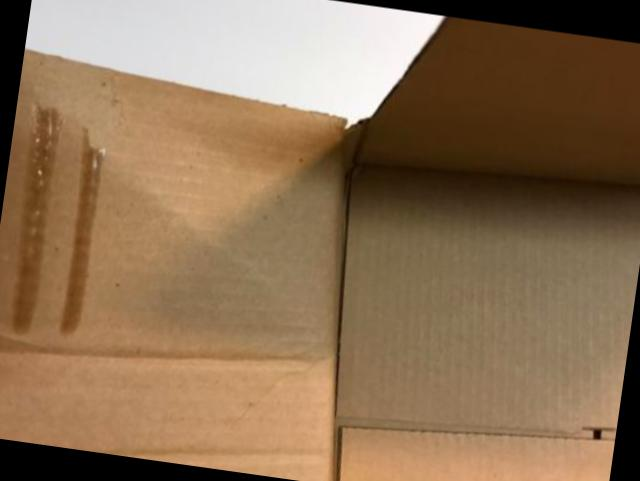cardboard paper: (0, 15, 640, 481)
